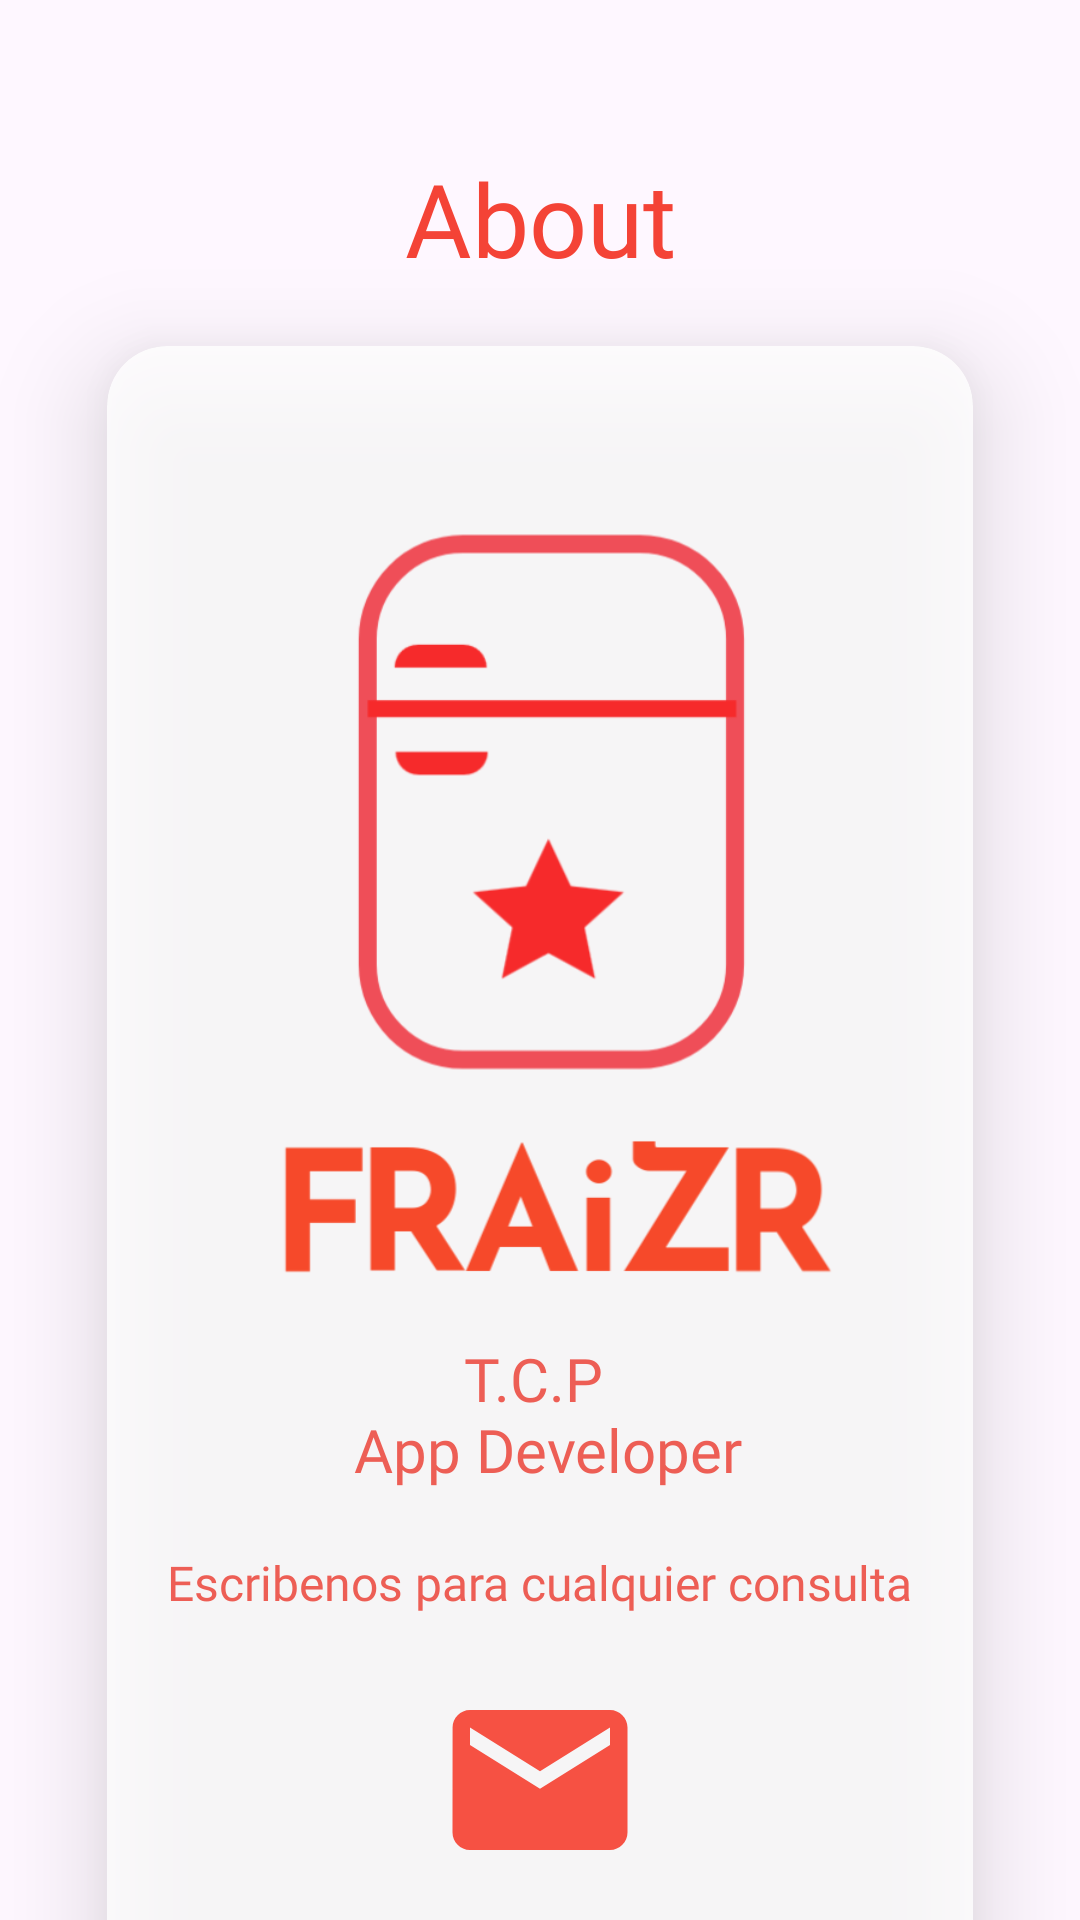

Icons on this 1080 x 1920 Android screen, each with its box as bbox=(x1, y1, x2, y2):
mail rojo: bbox=(452, 1710, 628, 1850)
